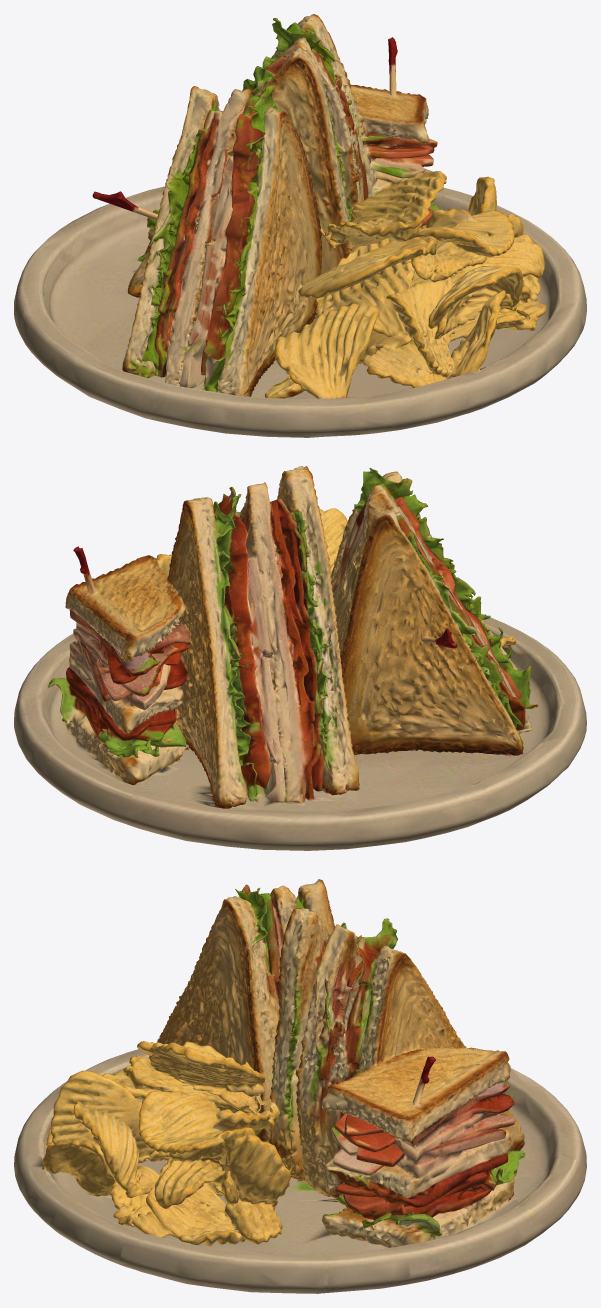
The model's file is club.glb.
3 views of the same model, one above another, from view 1: azimuth 30°, elevation 25°; view 2: azimuth 150°, elevation 25°; view 3: azimuth 270°, elevation 25° (orthographic).
Parts seen in each view (by area): view 1: mesh_node; view 2: mesh_node; view 3: mesh_node.
Boxes of the visible parts, x1,y1,x2,y2 form: mesh_node: [14, 14, 586, 437]; mesh_node: [14, 466, 586, 850]; mesh_node: [14, 879, 586, 1293].
Bounding box in the file's own units: 1.9 × 0.9883 × 1.9.
Materials: 1 (1 with a texture image).
